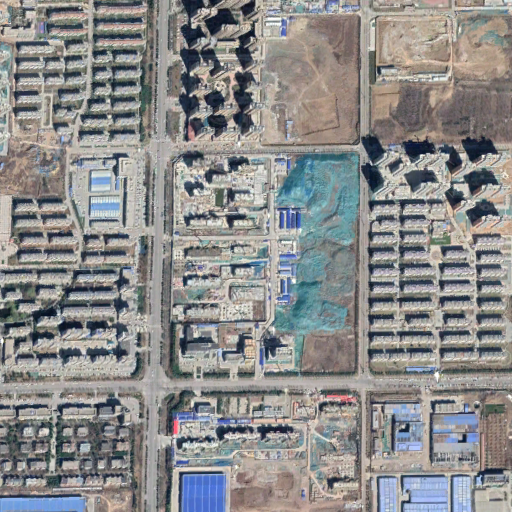cw: (278, 152, 359, 367)
